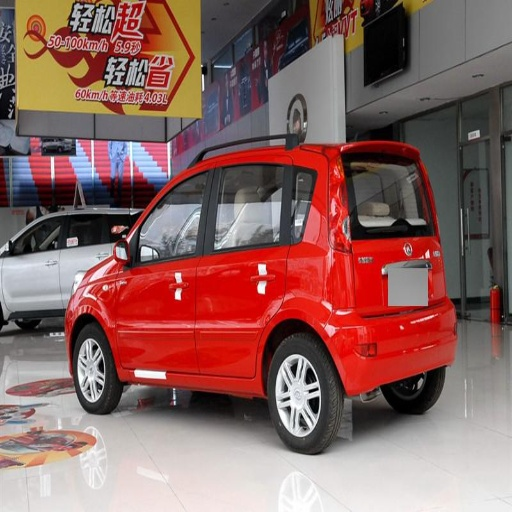back_bumper: (341, 303, 455, 390)
back_left_door: (196, 163, 294, 374)
trunk: (365, 236, 444, 357)
